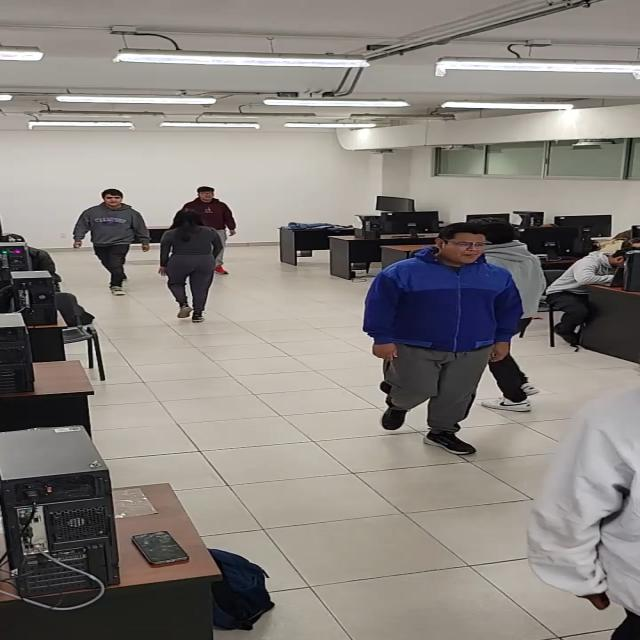Persona: (362, 221, 523, 457), (526, 390, 640, 640), (463, 219, 544, 413), (70, 189, 152, 295), (158, 209, 225, 322), (179, 186, 238, 276)
